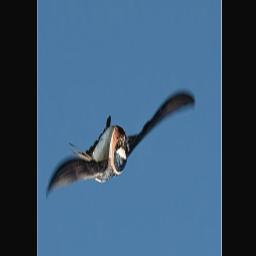Swallow: (47, 93, 196, 206)
